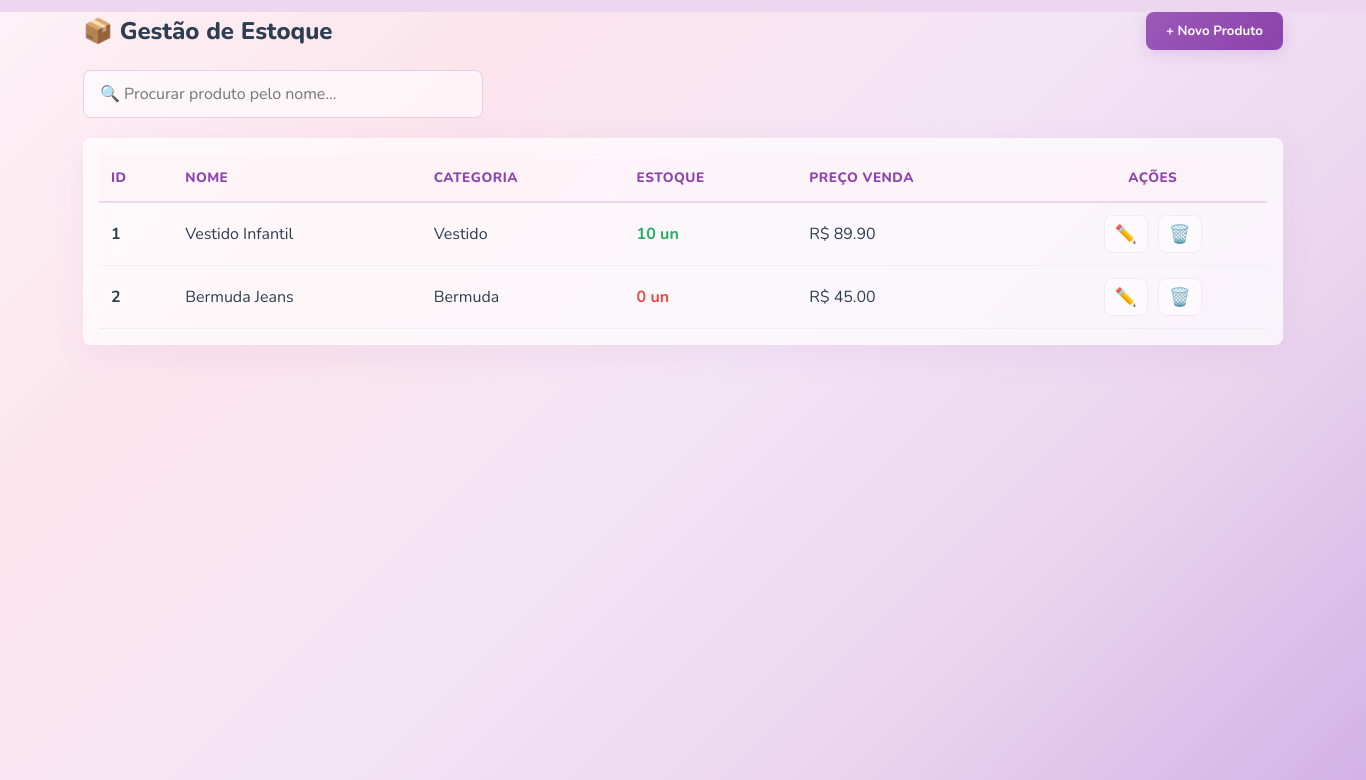
it: Componente Estoque - Testes de Interface › Deve filtrar os produtos quando o usuário digitar na barra de busca
The image size is (1366, 780).
In the field with placeholder "🔍 Procurar produto pelo nome...": x=283, y=94 [83,70,483,118], type "Bermuda"
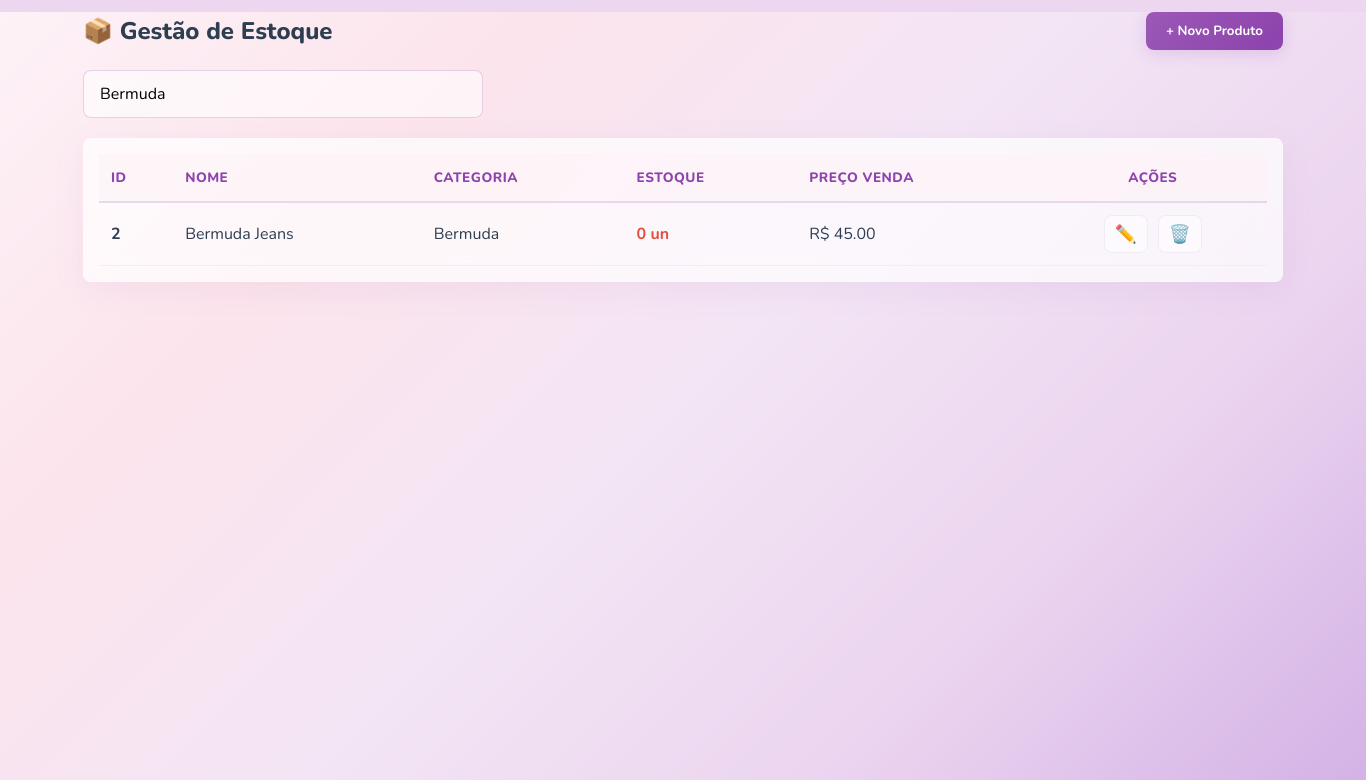
Expected: the text "Bermuda Jeans" is shown, [173,202,422,266]
Now the text "Vestido Infantil" is gone
Replace the text in the field with placeholder "🔍 Procurar produto pelo nome..." with "Jaqueta": x=283, y=94 [83,70,483,118]
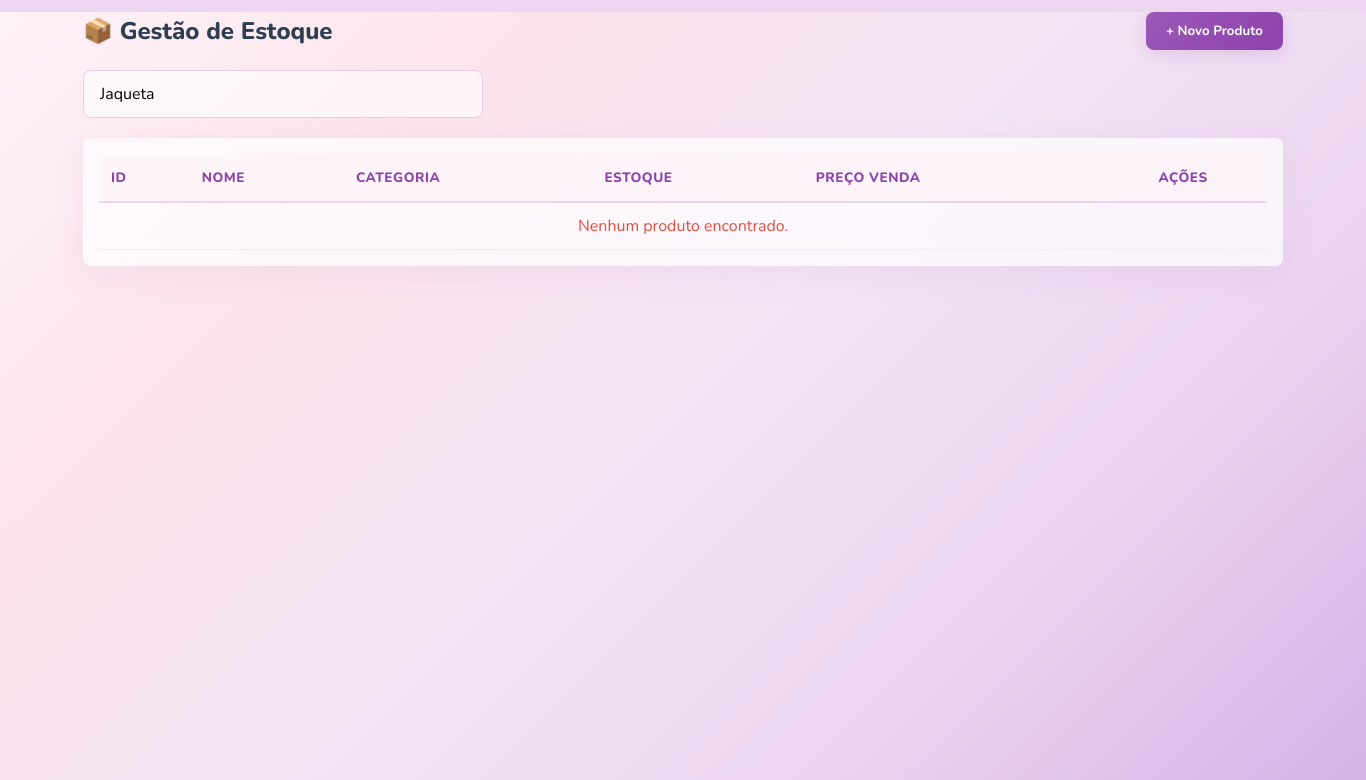
Now the text "Nenhum produto encontrado." is shown, box [99,202,1267,250]
